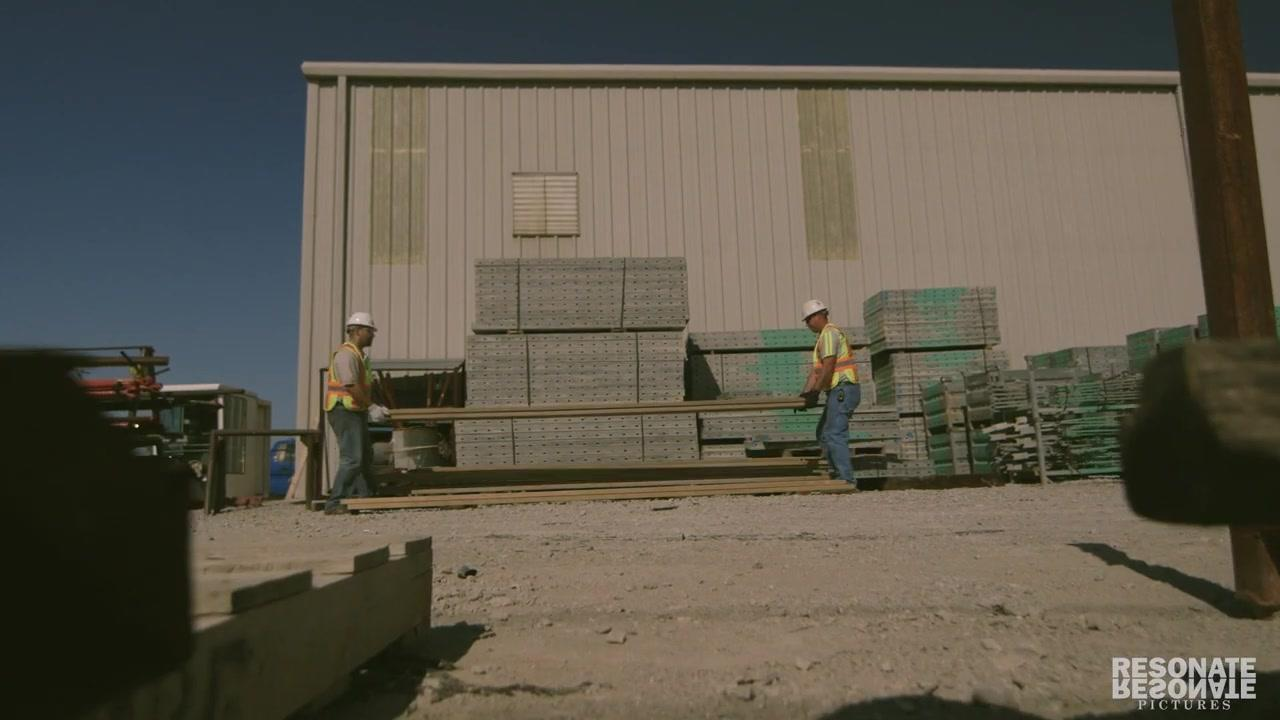vest: (321, 345, 368, 411), (812, 325, 857, 392)
